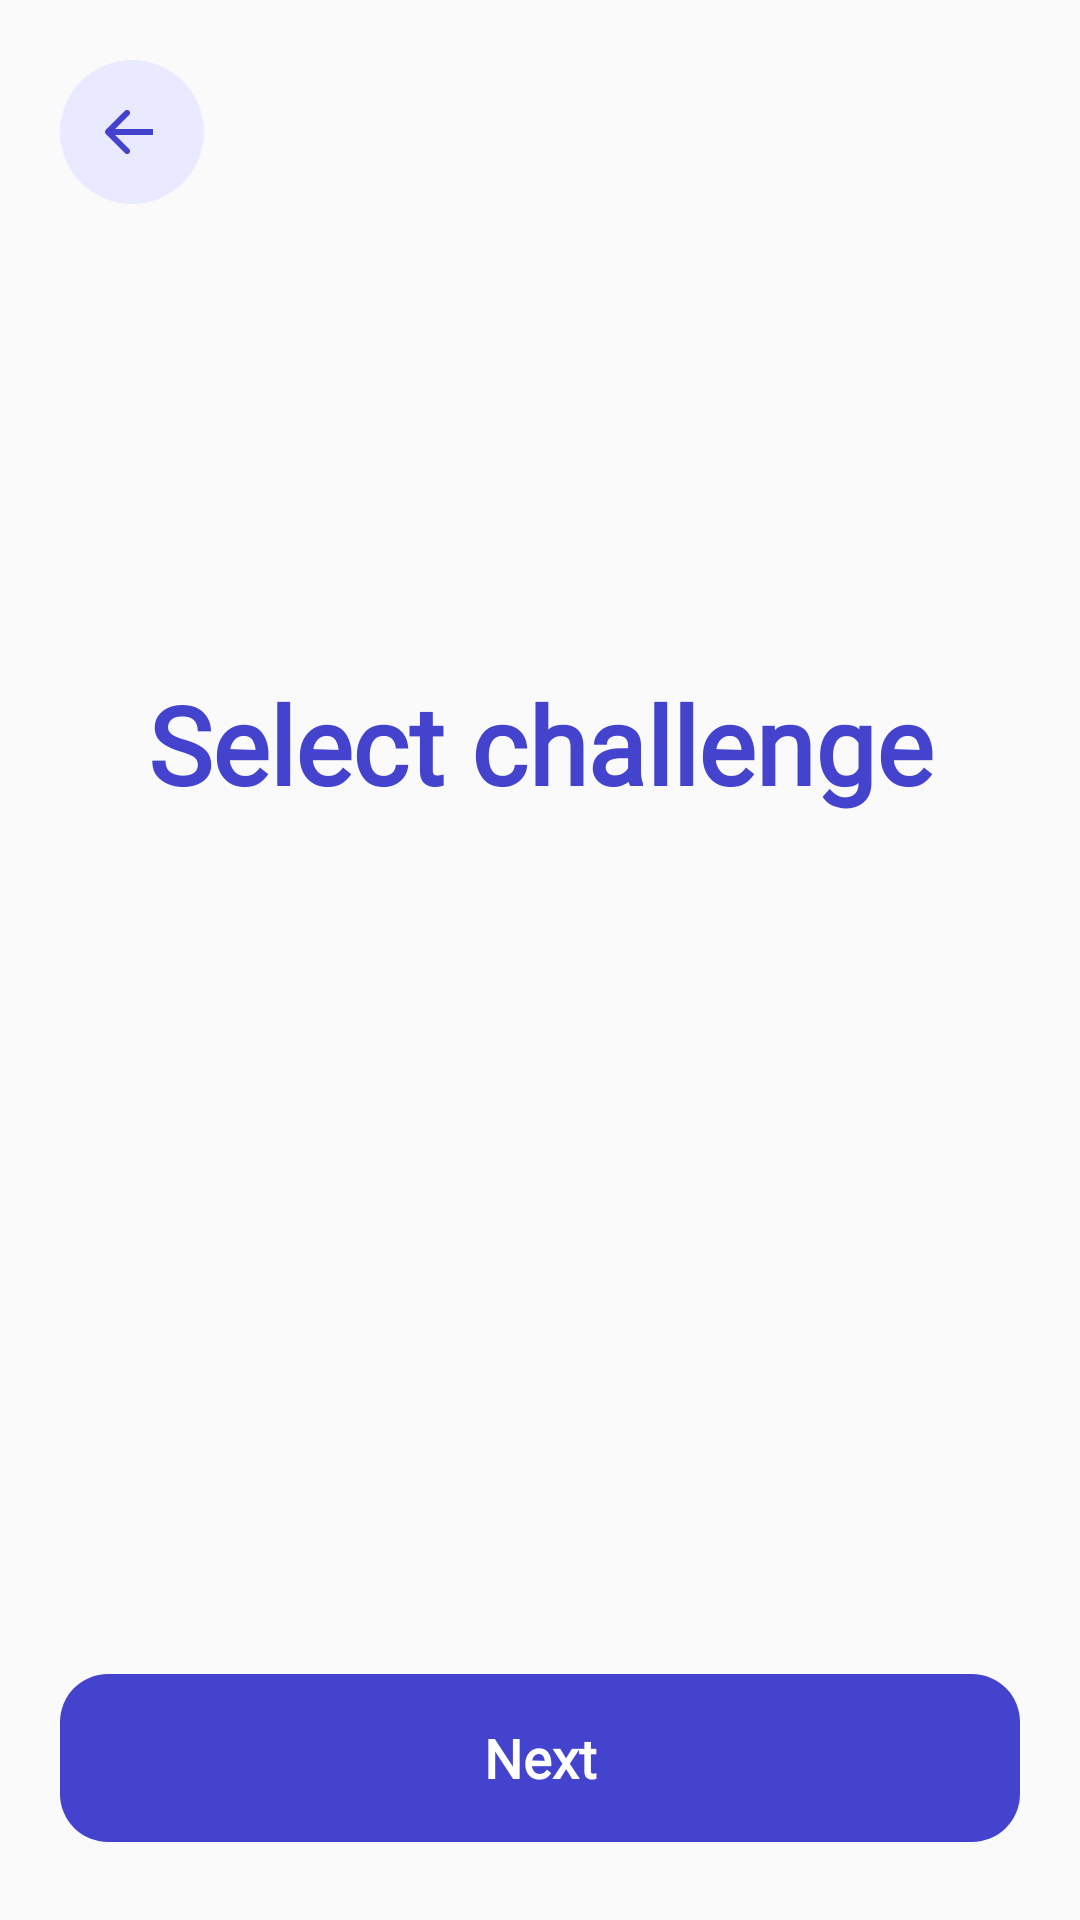

Where icons sit on this 1080px×1920px app screen, as (x1, y1, x2, y2):
back: (60, 60, 204, 204)
